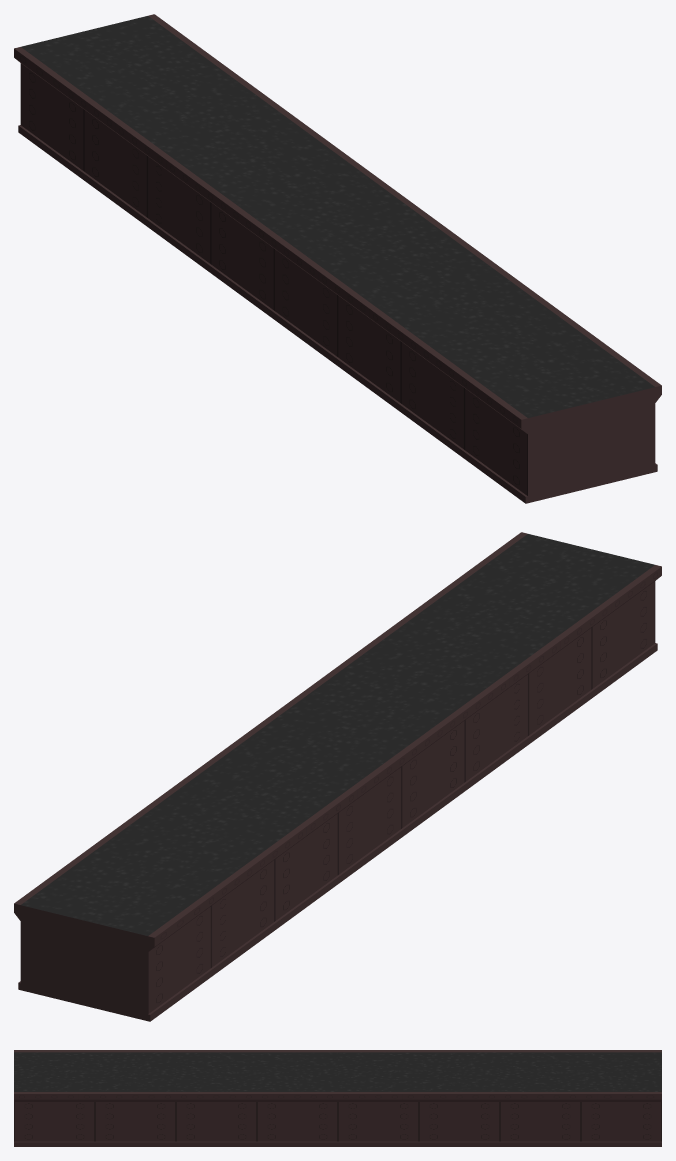
File: SW_ENV_EL_TrackBase_20m.fbx
The picture shows the model from 3 angles, top to bottom: view 1: azimuth 30°, elevation 25°; view 2: azimuth 150°, elevation 25°; view 3: azimuth 270°, elevation 25°; orthographic projection. The views are drawn at different scales.
Visible parts, largest first — view 1: SW_ENV_EL_TrackBase_20m; view 2: SW_ENV_EL_TrackBase_20m; view 3: SW_ENV_EL_TrackBase_20m.
Boxes of the visible parts, x1,y1,x2,y2 form: SW_ENV_EL_TrackBase_20m: (14, 14, 661, 503); SW_ENV_EL_TrackBase_20m: (14, 532, 661, 1021); SW_ENV_EL_TrackBase_20m: (14, 1050, 661, 1146).
Size of the model in its own units: 320 by 185 by 2000.
